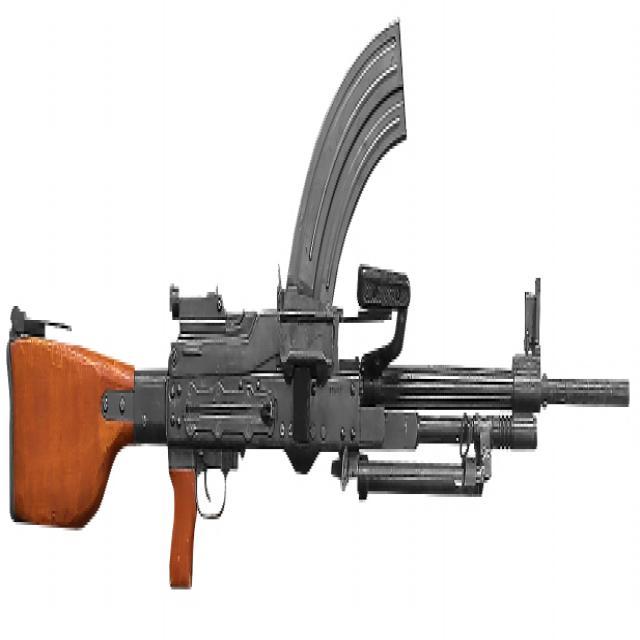gun: (5, 12, 631, 607)
